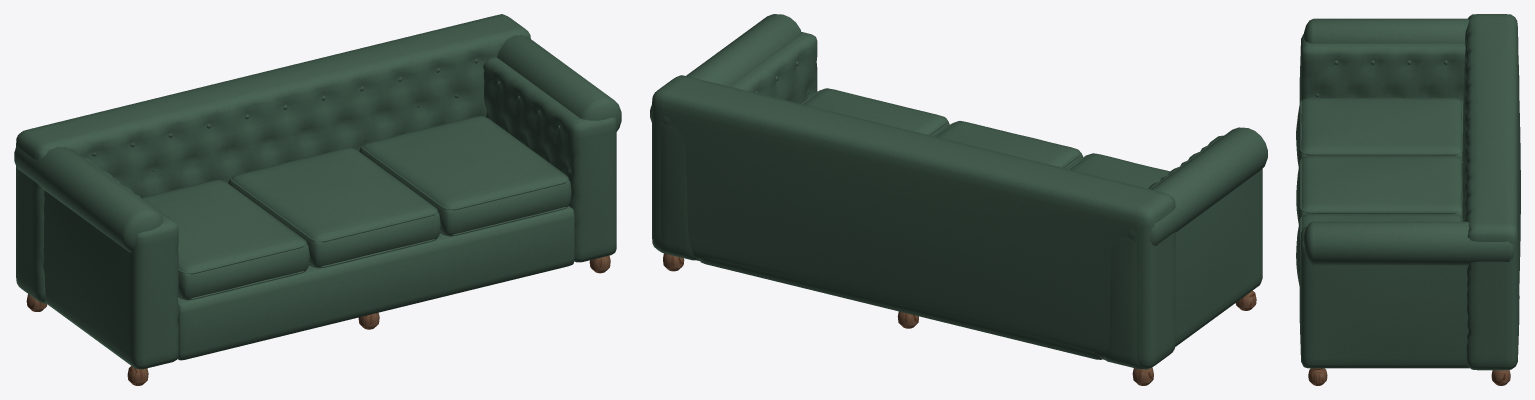
Rendered from sofa_capitone_3p_verde.glb.
3 views of the same model, side by side, from view 1: azimuth 30°, elevation 25°; view 2: azimuth 150°, elevation 25°; view 3: azimuth 270°, elevation 25° (orthographic). The views are drawn at different scales.
Visible parts, largest first — view 1: sofa_capitone_3p_verde; view 2: sofa_capitone_3p_verde; view 3: sofa_capitone_3p_verde.
Boxes of the visible parts, <box> form: sofa_capitone_3p_verde: <box>14,14,621,385</box>; sofa_capitone_3p_verde: <box>650,14,1267,385</box>; sofa_capitone_3p_verde: <box>1296,14,1520,385</box>.
Bounding box in the file's own units: 2.17 × 0.748 × 0.9325.
Materials: 2 (2 with a texture image).
